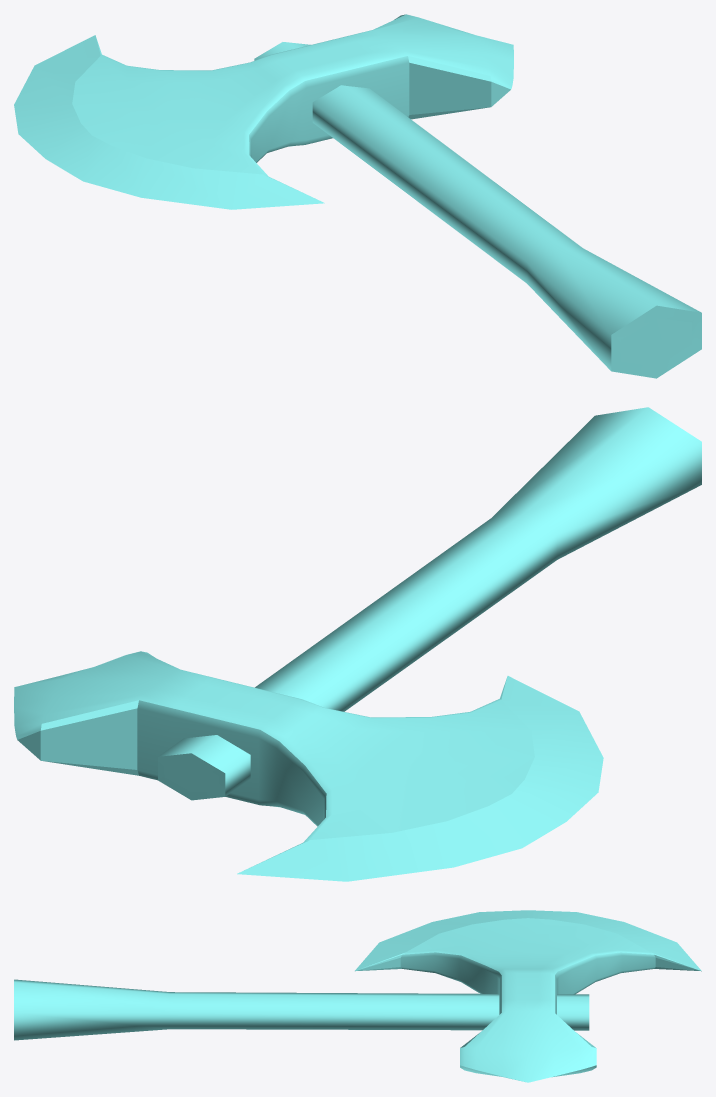
The model's file is Axe_4.fbx.
3 views of the same model, one above another, from view 1: azimuth 30°, elevation 25°; view 2: azimuth 150°, elevation 25°; view 3: azimuth 270°, elevation 25° (orthographic). The views are drawn at different scales.
Parts seen in each view (by area): view 1: Axe_4; view 2: Axe_4; view 3: Axe_4.
Part boxes in pixels (bbox=[...]): Axe_4: bbox=[14, 14, 701, 378]; Axe_4: bbox=[14, 407, 701, 881]; Axe_4: bbox=[14, 910, 701, 1082].
Size of the model in its own units: 7.1 by 1.06 by 11.96.
